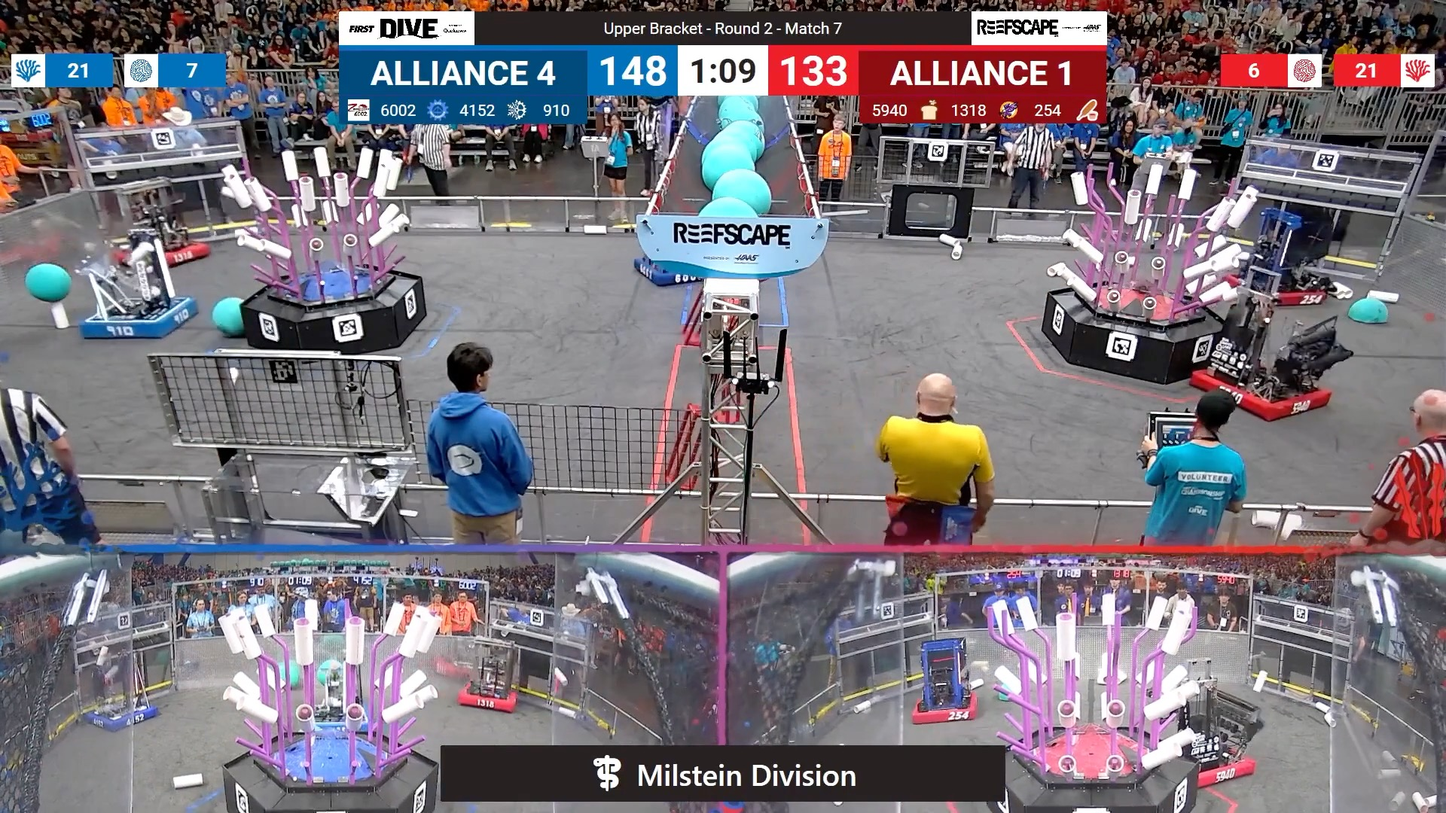bumpers: (1186, 361, 1343, 428), (80, 293, 205, 345), (1232, 269, 1341, 312), (1174, 742, 1262, 789), (116, 237, 218, 272), (905, 687, 984, 728), (76, 701, 163, 737), (450, 682, 524, 716), (629, 257, 699, 287)
